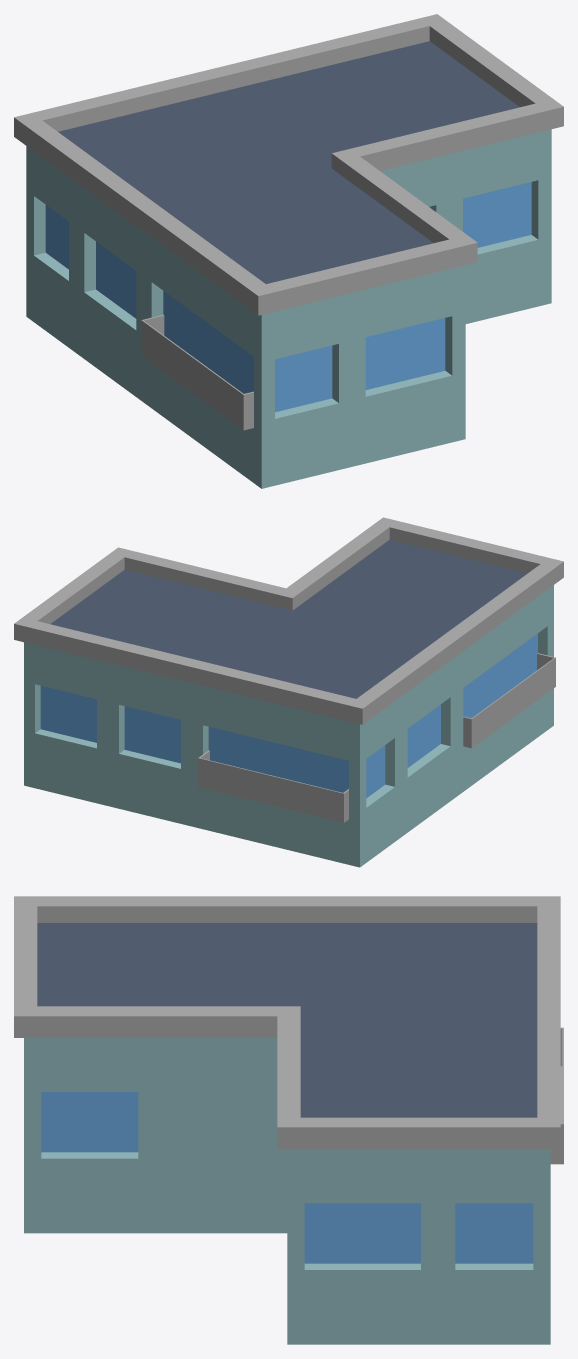
File: building_L_4_r.glb
3 renders of one model, top to bottom at view 1: azimuth 30°, elevation 25°; view 2: azimuth 150°, elevation 25°; view 3: azimuth 270°, elevation 25°, orthographic. The views are drawn at different scales.
Visible parts, largest first — view 1: Cube.002; view 2: Cube.002; view 3: Cube.002.
Part boxes in pixels (left/top/right/bottom): Cube.002: left=14, top=14, right=563, bottom=488; Cube.002: left=14, top=517, right=563, bottom=867; Cube.002: left=14, top=896, right=563, bottom=1344.
Size of the model in its own units: 3.69 by 1.64 by 3.69.
